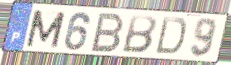6: (63, 10, 92, 51)
9: (189, 17, 217, 60)
B: (119, 14, 158, 55), (89, 12, 127, 54)
D: (154, 15, 189, 57)
M: (24, 9, 68, 50)
